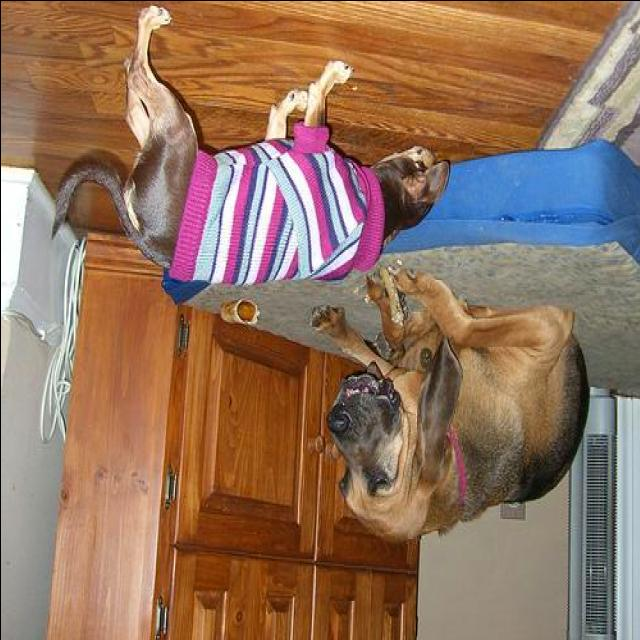bloodhound: (307, 261, 595, 548)
